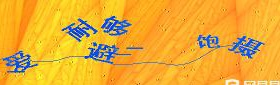chinese: (233, 29, 269, 62), (84, 42, 122, 64), (103, 11, 135, 35), (7, 51, 36, 76), (61, 20, 97, 40), (195, 31, 220, 53)
